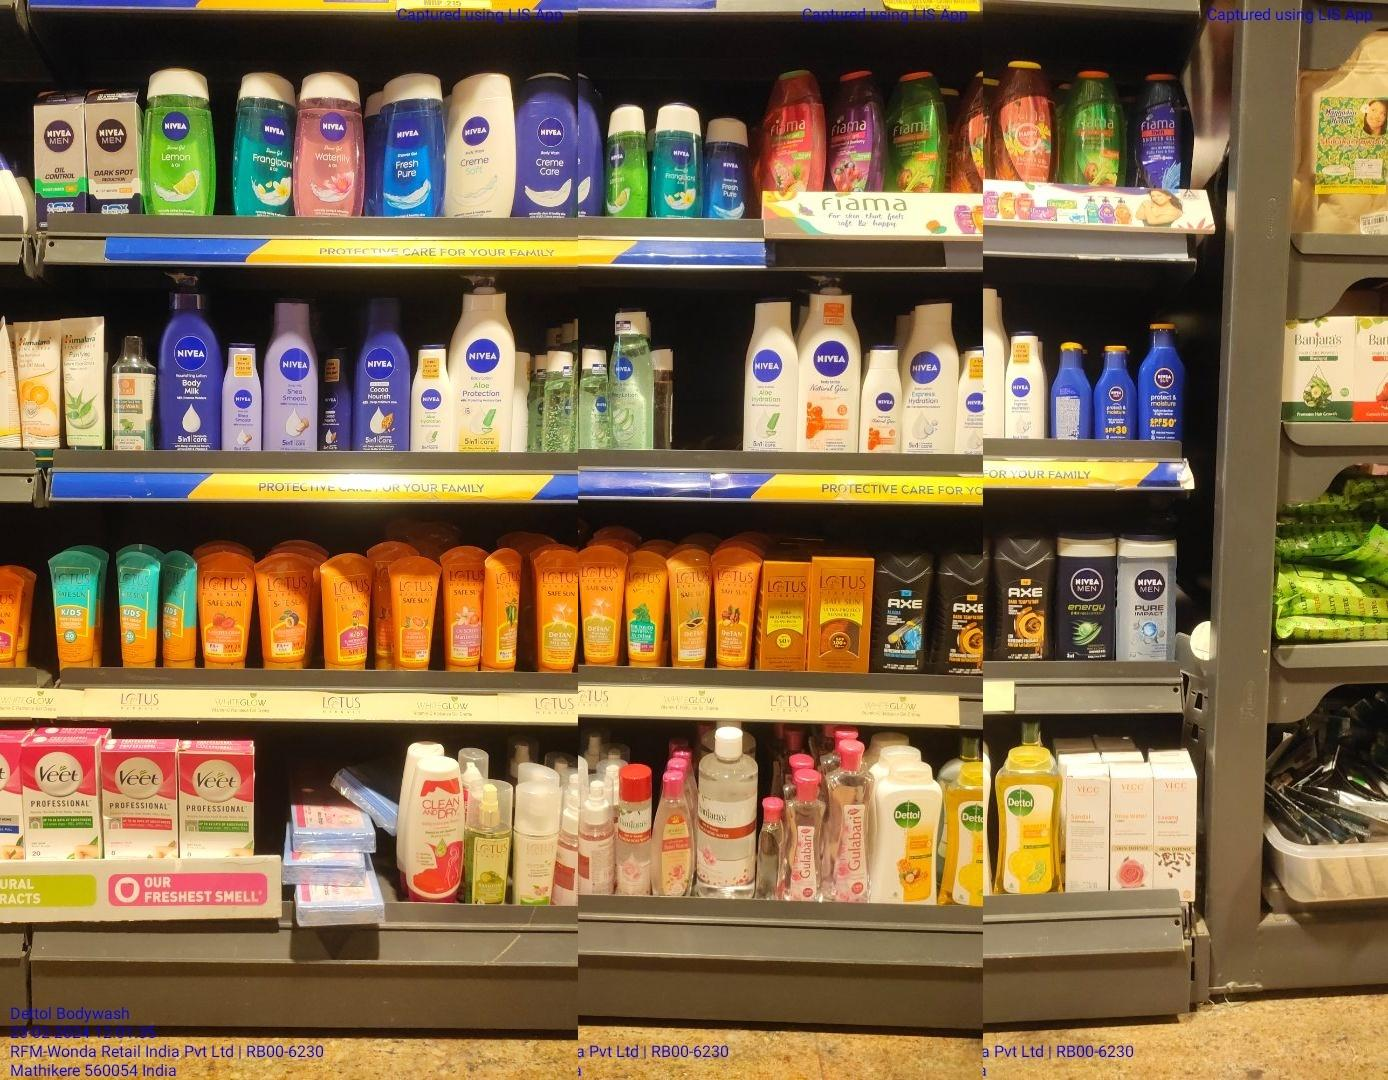Dettol_Bodywash_Refresh: (988, 751, 1062, 896), (938, 747, 986, 908)
Dettol_Nourish_Body_Wash_250ML: (873, 765, 932, 903)
Fiama_Shower_Gel_Lemongrass_and_Jojoba_250ML: (1064, 64, 1125, 193), (891, 75, 943, 194)
Fiama_Shower_Gel_Patchouli_and_Macadamia_250ML: (766, 70, 824, 191)
Nivea_Creme_Care_Body_Wash_250ML: (513, 73, 571, 220)
Nivea_Creme_Soft_Body_Wash_250ML: (446, 77, 510, 221)
Nivea_Shower_Gel_Frangipani_and_Oil_250ML: (237, 68, 290, 221)
Nivea_Shower_Gel_Lemon_and_Oil_250ML: (144, 73, 214, 212)
Nivea_Shower_Gel_Waterlily_and_Oil_250ML: (294, 74, 364, 218)
